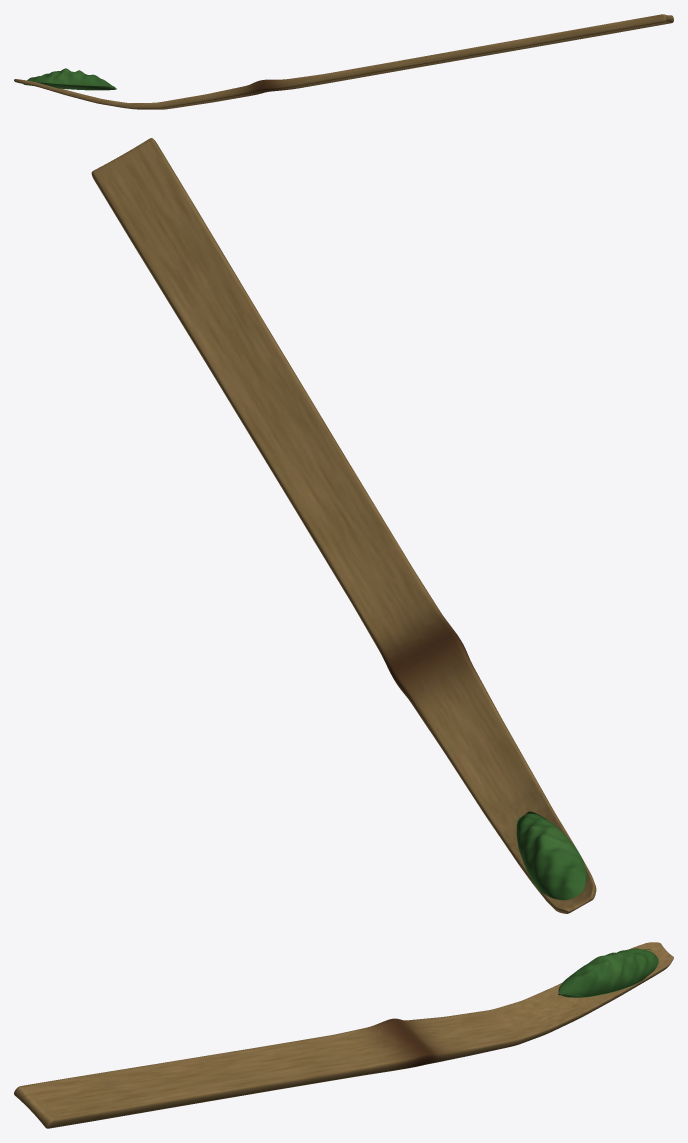
File: chashaku.glb
3 views of the same model, one above another, from view 1: azimuth 30°, elevation 25°; view 2: azimuth 150°, elevation 25°; view 3: azimuth 270°, elevation 25° (orthographic). The views are drawn at different scales.
Parts seen in each view (by area): view 1: Bamboo_Chashaku, Matcha_Scoop_Heap; view 2: Bamboo_Chashaku, Matcha_Scoop_Heap; view 3: Bamboo_Chashaku, Matcha_Scoop_Heap.
Boxes of the visible parts, bbox=[...] form: Bamboo_Chashaku: bbox=[14, 14, 673, 109]; Matcha_Scoop_Heap: bbox=[23, 68, 116, 90]; Bamboo_Chashaku: bbox=[91, 138, 596, 913]; Matcha_Scoop_Heap: bbox=[516, 811, 587, 900]; Bamboo_Chashaku: bbox=[14, 942, 673, 1128]; Matcha_Scoop_Heap: bbox=[558, 948, 658, 997].
Bounding box in the file's own units: 0.1403 × 0.0405 × 0.1181.
2 materials, 2 textured.
